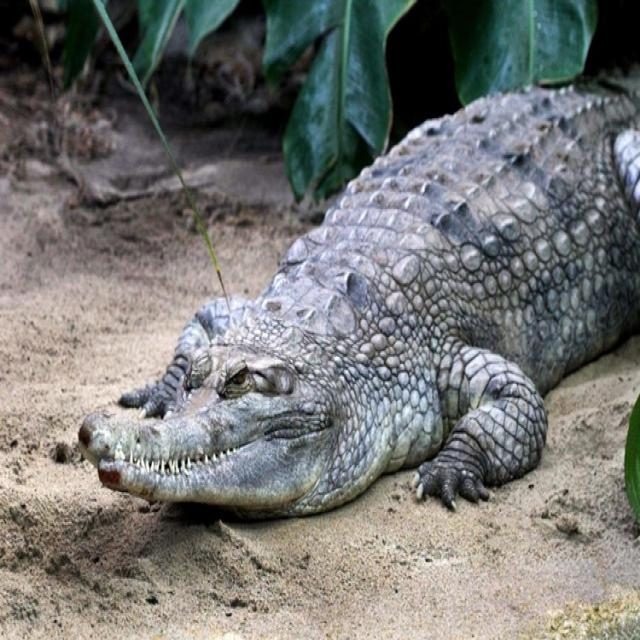not_pig: (77, 61, 638, 522)
